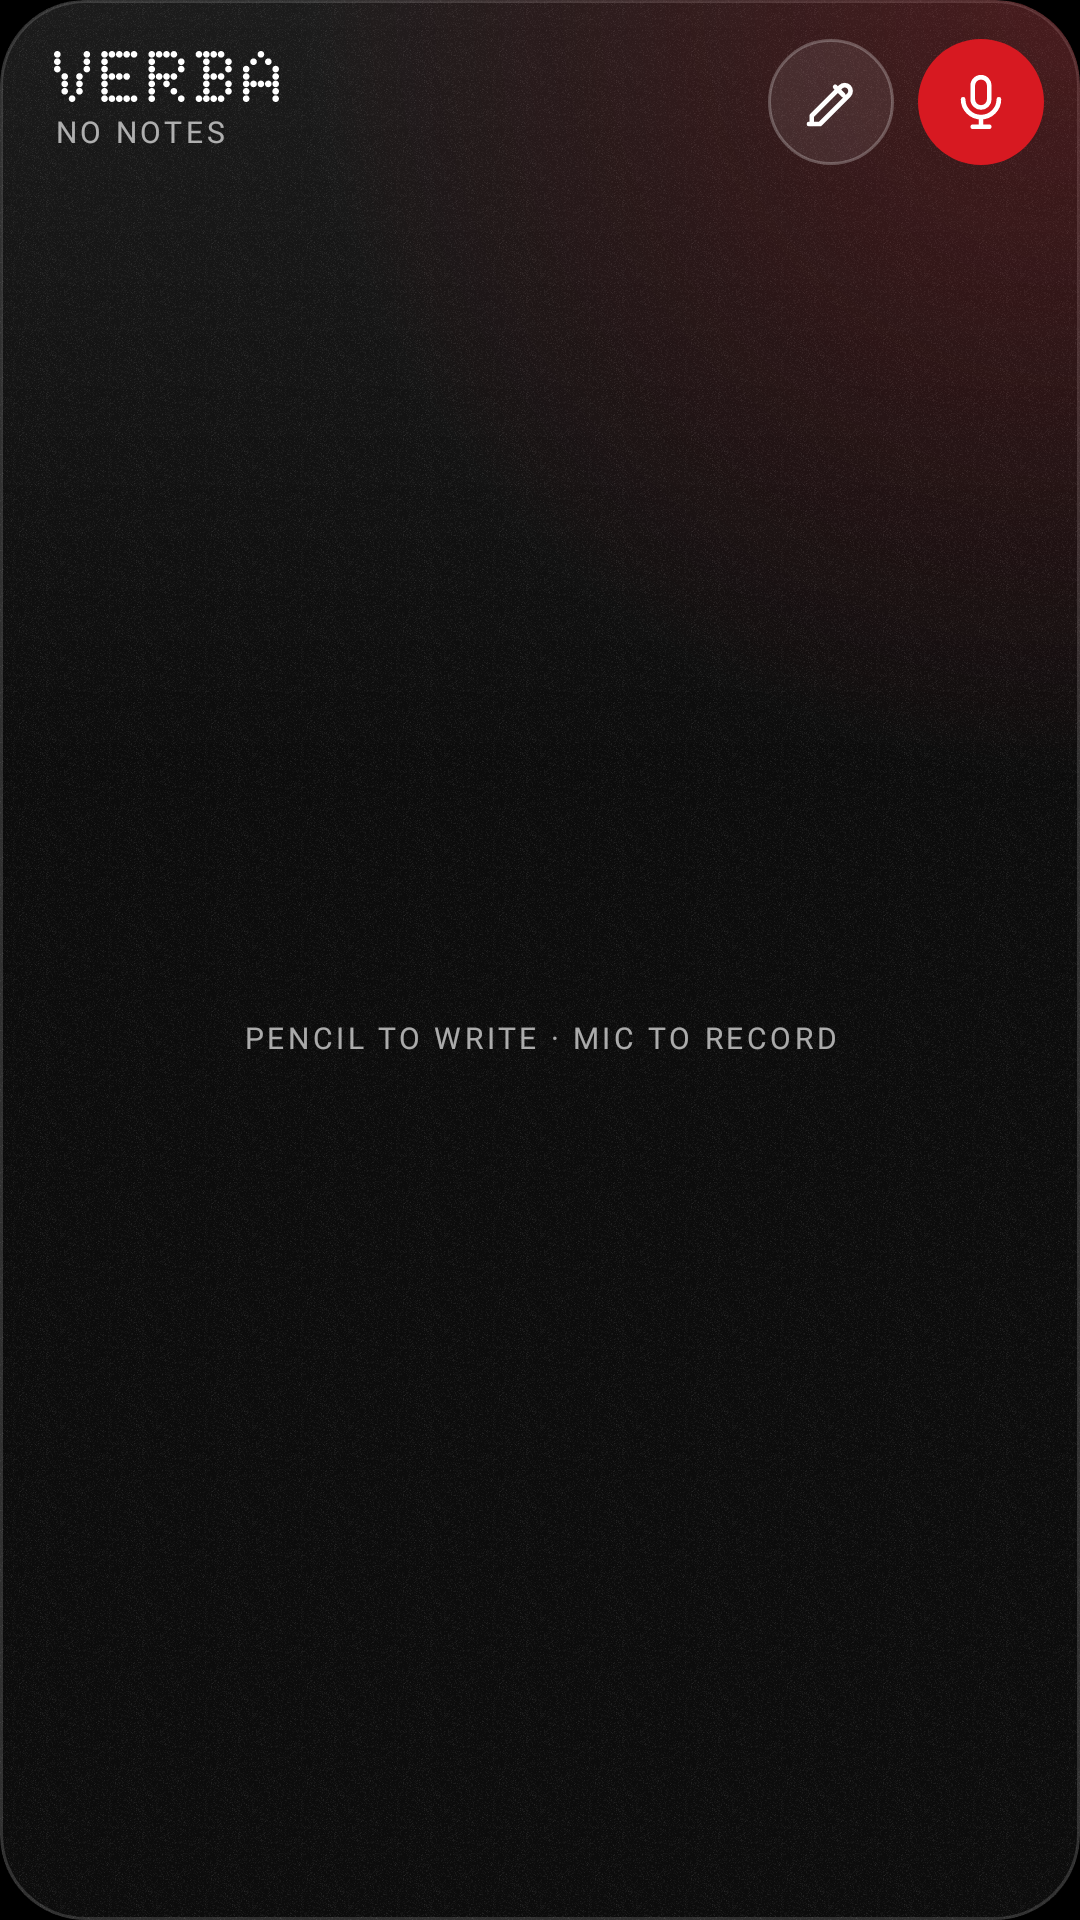

Icons on this 1080 × 1920 Android screen, each with the point to tap as point (x, y):
New text note: point (831, 102)
